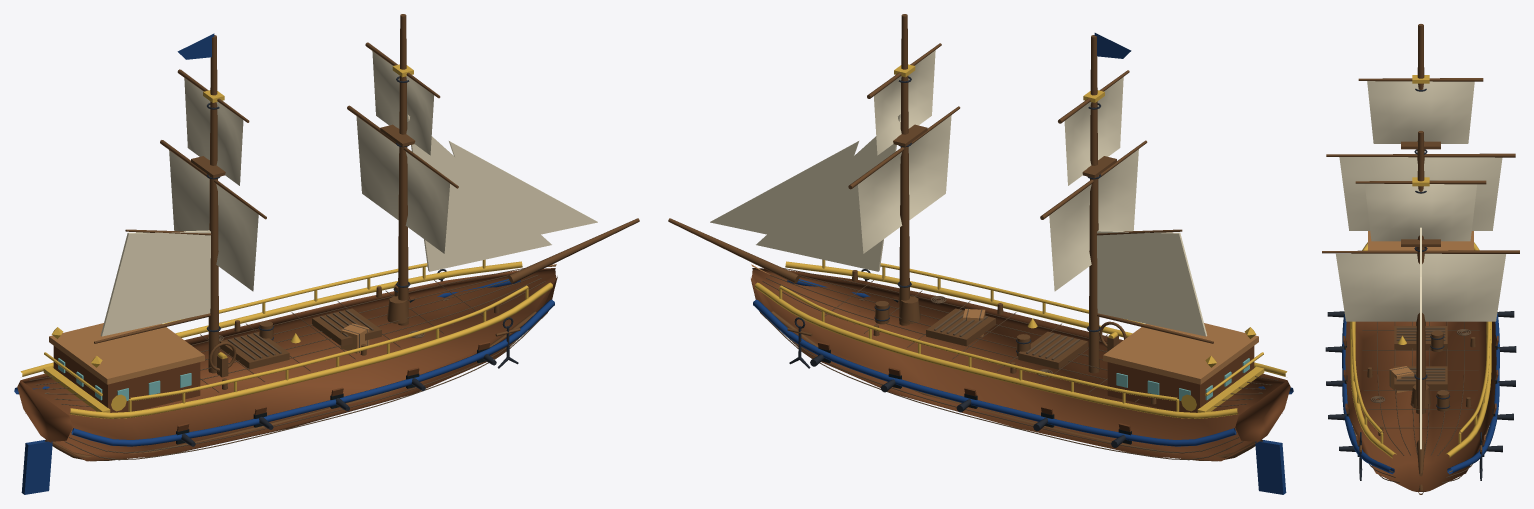
The model's file is brig.glb.
3 views of the same model, side by side, from view 1: azimuth 30°, elevation 25°; view 2: azimuth 150°, elevation 25°; view 3: azimuth 270°, elevation 25° (orthographic). The views are drawn at different scales.
Parts seen in each view (by area): view 1: Mesh_Batch_0, Mesh_Batch_6, Mesh_Batch_4, SailSurface_6, SailSurface_4, Mesh_Batch_15, SailSurface_2, Mesh_Batch_5, SailSurface_0, Mesh_Batch_12, SailSurface_5, Mesh_Batch_13 (+7 smaller); view 2: Mesh_Batch_0, Mesh_Batch_6, Mesh_Batch_4, SailSurface_6, SailSurface_4, SailSurface_2, Mesh_Batch_5, Mesh_Batch_15, SailSurface_0, SailSurface_5, Mesh_Batch_12, Mesh_Batch_13 (+7 smaller); view 3: Mesh_Batch_0, SailSurface_2, SailSurface_1, SailSurface_3, SailSurface_0, Mesh_Batch_6, Mesh_Batch_4, Mesh_Batch_5, Mesh_Batch_20, Mesh_Batch_12, Mesh_Batch_15, Mesh_Batch_32 (+4 smaller).
Part boxes in pixels (left/top/right/bottom): Mesh_Batch_0: left=17, top=268, right=557, bottom=461; Mesh_Batch_6: left=45, top=14, right=639, bottom=461; Mesh_Batch_4: left=20, top=64, right=552, bottom=418; SailSurface_6: left=100, top=230, right=210, bottom=336; SailSurface_4: left=407, top=114, right=551, bottom=271; Mesh_Batch_15: left=49, top=323, right=369, bottom=384; SailSurface_2: left=356, top=116, right=449, bottom=253; Mesh_Batch_5: left=14, top=33, right=554, bottom=494; SailSurface_0: left=169, top=150, right=258, bottom=291; Mesh_Batch_12: left=25, top=268, right=547, bottom=460; SailSurface_5: left=449, top=141, right=597, bottom=234; Mesh_Batch_13: left=53, top=296, right=489, bottom=431; Mesh_Batch_0: left=751, top=268, right=1290, bottom=461; Mesh_Batch_6: left=668, top=14, right=1262, bottom=461; Mesh_Batch_4: left=755, top=64, right=1287, bottom=418; SailSurface_6: left=1097, top=230, right=1207, bottom=336; SailSurface_4: left=756, top=114, right=900, bottom=271; SailSurface_2: left=858, top=115, right=951, bottom=253; Mesh_Batch_5: left=753, top=33, right=1293, bottom=494; Mesh_Batch_15: left=963, top=309, right=1258, bottom=384; SailSurface_0: left=1049, top=149, right=1138, bottom=291; SailSurface_5: left=710, top=141, right=858, bottom=245; Mesh_Batch_12: left=760, top=268, right=1282, bottom=460; Mesh_Batch_13: left=818, top=296, right=1254, bottom=431; Mesh_Batch_0: left=1345, top=321, right=1496, bottom=491; SailSurface_2: left=1336, top=253, right=1505, bottom=321; SailSurface_1: left=1367, top=81, right=1474, bottom=143; SailSurface_3: left=1364, top=183, right=1476, bottom=241; SailSurface_0: left=1339, top=157, right=1502, bottom=230; Mesh_Batch_6: left=1359, top=24, right=1482, bottom=494; Mesh_Batch_4: left=1350, top=75, right=1491, bottom=458; Mesh_Batch_5: left=1342, top=313, right=1499, bottom=474; Mesh_Batch_20: left=1325, top=88, right=1516, bottom=480; Mesh_Batch_12: left=1362, top=321, right=1479, bottom=483; Mesh_Batch_15: left=1368, top=231, right=1473, bottom=392; Mesh_Batch_32: left=1322, top=180, right=1519, bottom=253.
Bounding box in the file's own units: 12.51 × 8.09 × 3.83.
